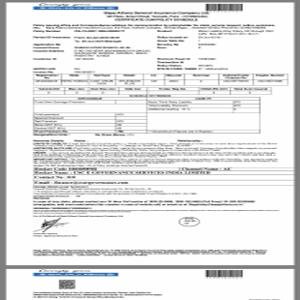table: (33, 97, 261, 134), (32, 72, 288, 85), (32, 86, 272, 94)
text: (30, 23, 276, 73), (31, 137, 280, 167), (31, 245, 269, 258), (101, 9, 212, 22)
